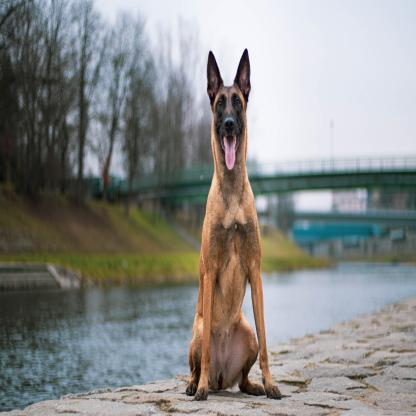german shepherd: (186, 41, 282, 401)
